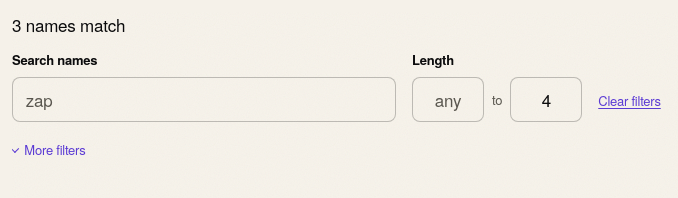
it: Toolbar length range › says so when a typed bound names no label length, and keeps the other one
The width and height of the screenshot is (678, 198).
expect the message reads "3 names match": met, box [12, 12, 125, 37]
Type "100" into the number field named "Shortest label length" at (448,100), box [412, 77, 484, 122]
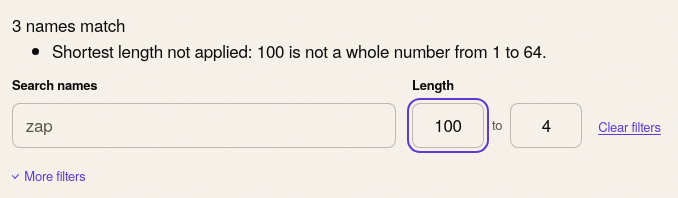
expect the 2nd number field named "Longest label length" holds "4": met, box [510, 102, 582, 148]
expect the list "not applied" reads "Shortest length not applied: 100 is not a whole number from 1 to 64.": met, box [52, 38, 546, 62]
